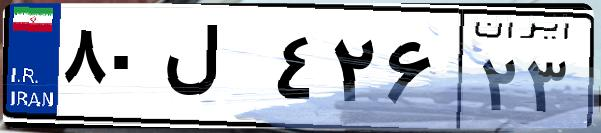0: (110, 28, 158, 98)
2: (330, 28, 385, 110), (475, 38, 525, 113)
3: (525, 38, 570, 115)
4: (270, 28, 330, 110)
6: (385, 28, 445, 110)
8: (57, 26, 110, 100)
ل: (158, 20, 270, 120)
